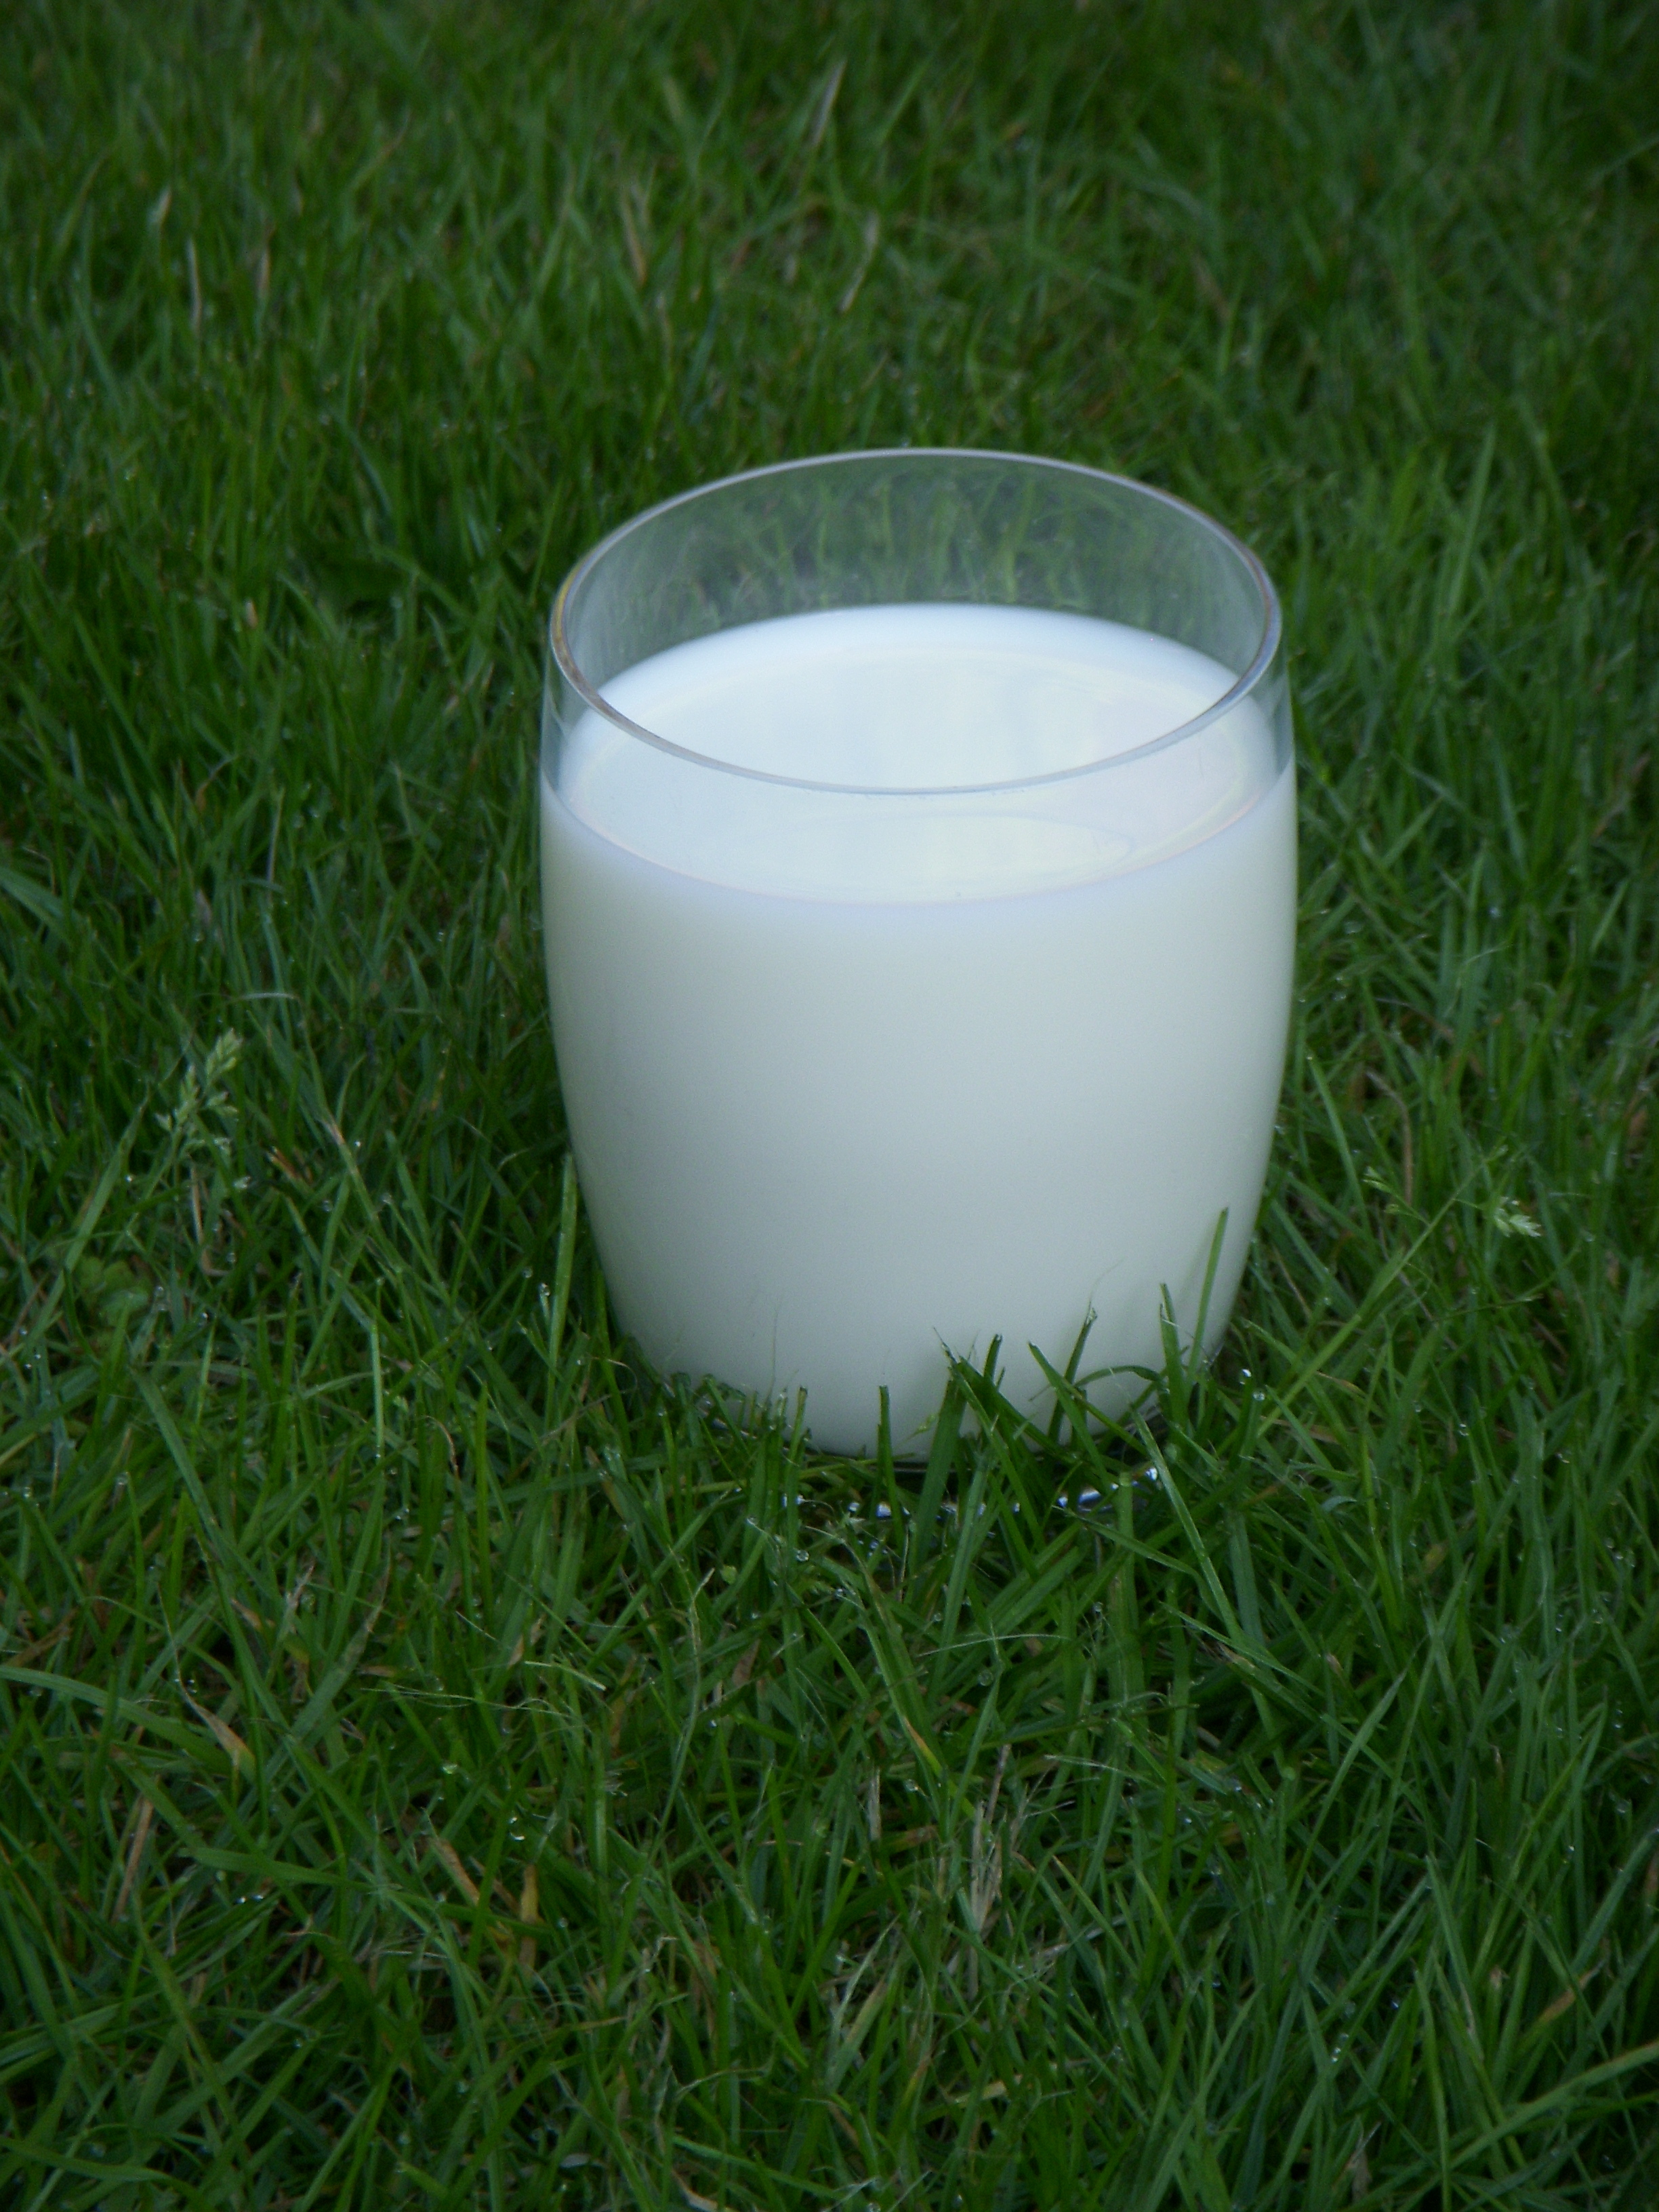glass of milk: (575, 547, 1253, 1500)
